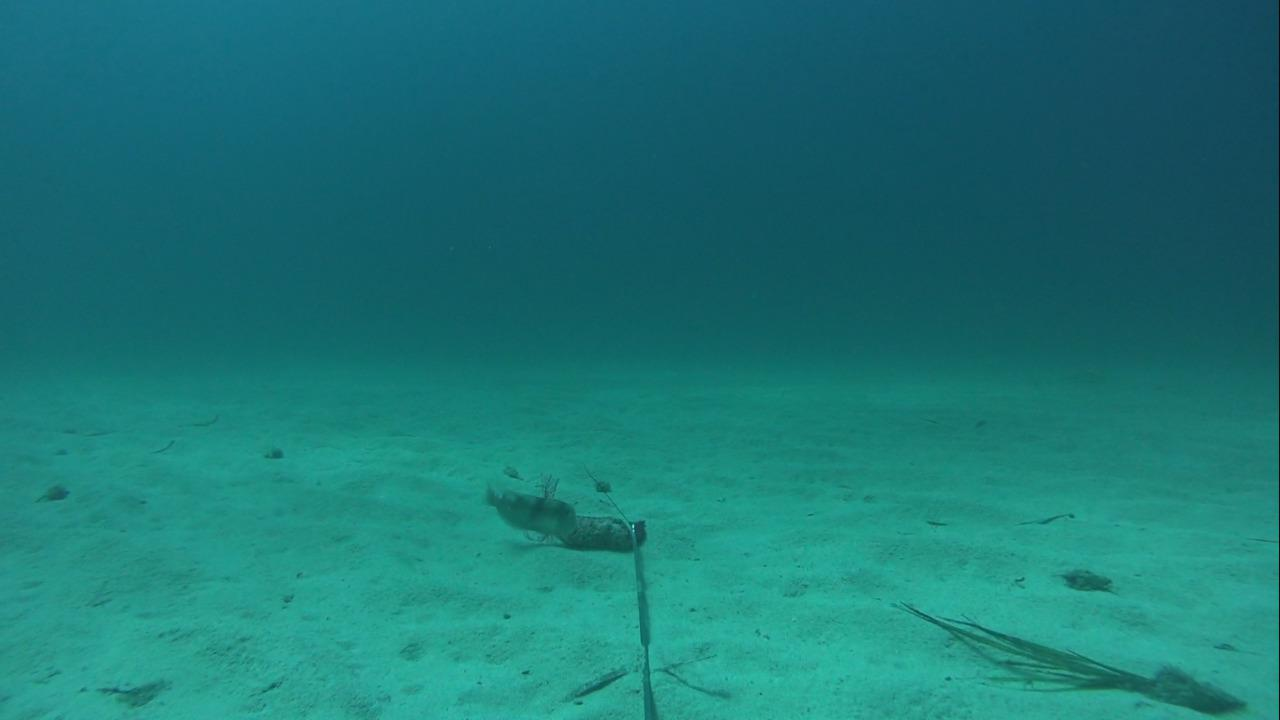raor: (473, 481, 578, 540)
